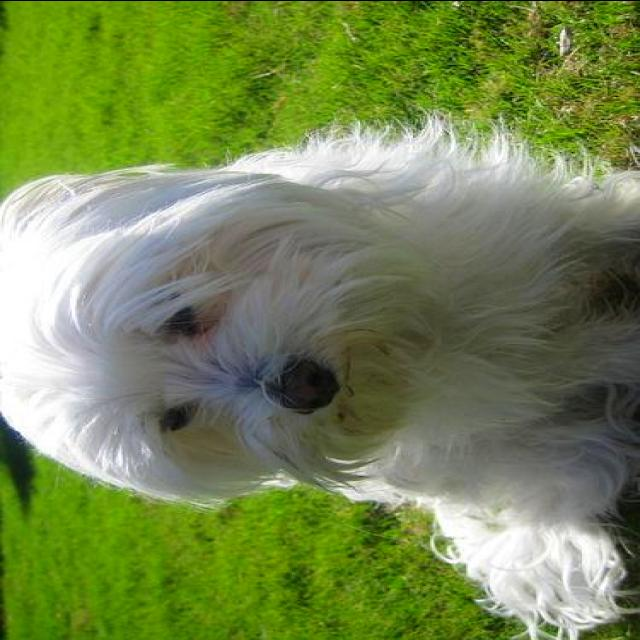maltese_dog: (2, 111, 638, 640)
